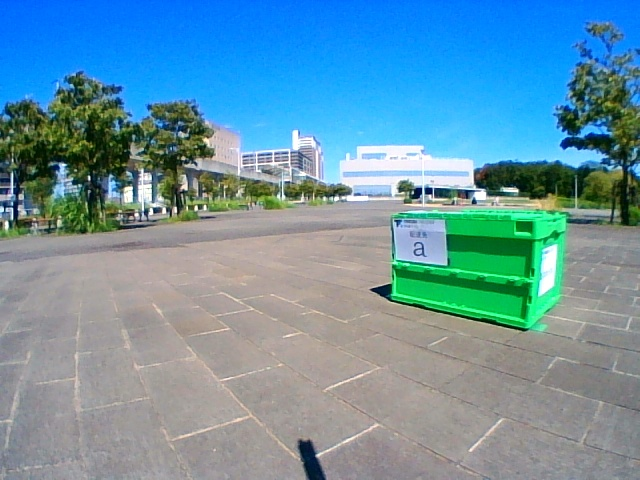green_box: (391, 211, 566, 329)
tag_a: (396, 221, 444, 260)
